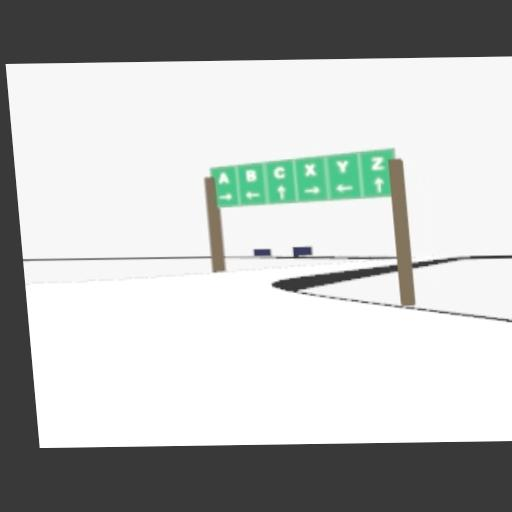A: (216, 170, 230, 186)
B: (244, 169, 258, 184)
C: (273, 165, 287, 181)
Left: (336, 183, 355, 195), (244, 190, 260, 201)
Right: (302, 186, 320, 196), (216, 192, 233, 202)
Straight: (373, 176, 385, 196), (276, 183, 287, 199)
X: (304, 163, 319, 178)
Y: (336, 161, 351, 174)
Z: (370, 157, 386, 172)
